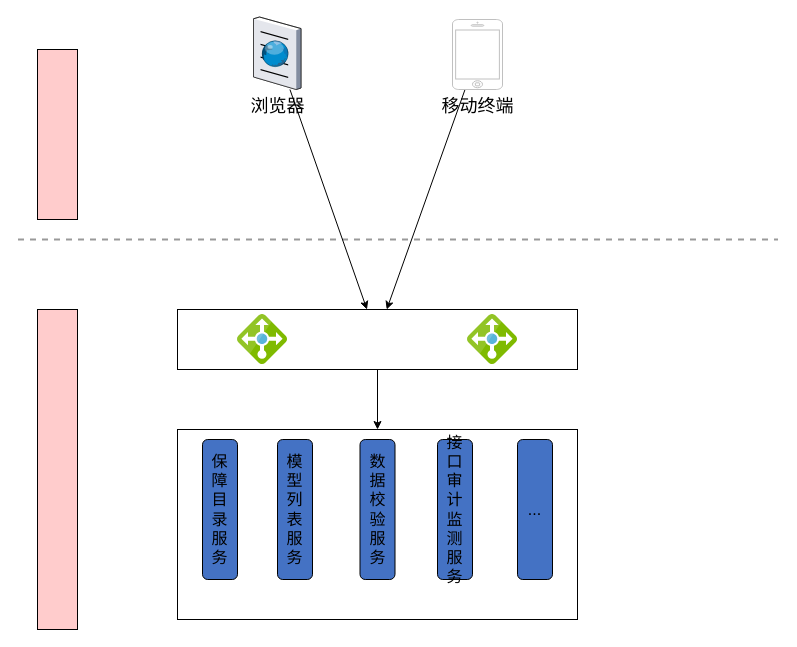
Image size: 797x647. Some labels were removed from this diagram. Here are the shapes that lost their labels. From the top down, the box of each, then its label:
(36, 48, 78, 220): 前端
(176, 308, 578, 370): 负载均衡器
(36, 308, 78, 630): 后端
(176, 428, 578, 620): 福建省多层次补充医疗保障服务系统
